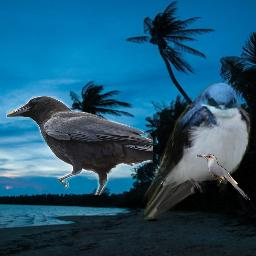Crow: (6, 96, 153, 195)
Cuckoo: (197, 154, 250, 201)
Swallow: (140, 81, 252, 220)
